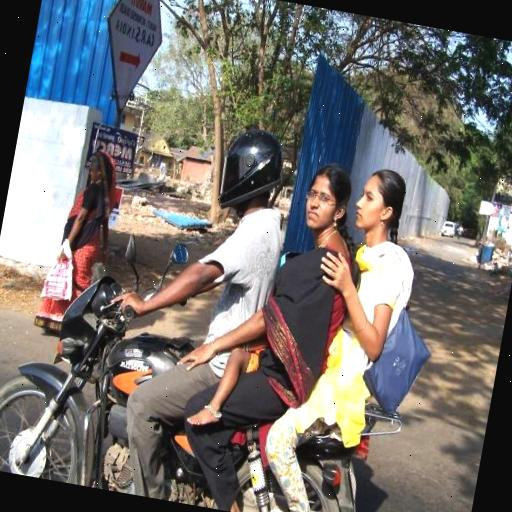helmet: (199, 114, 284, 238)
triple riding: (0, 91, 473, 512)
